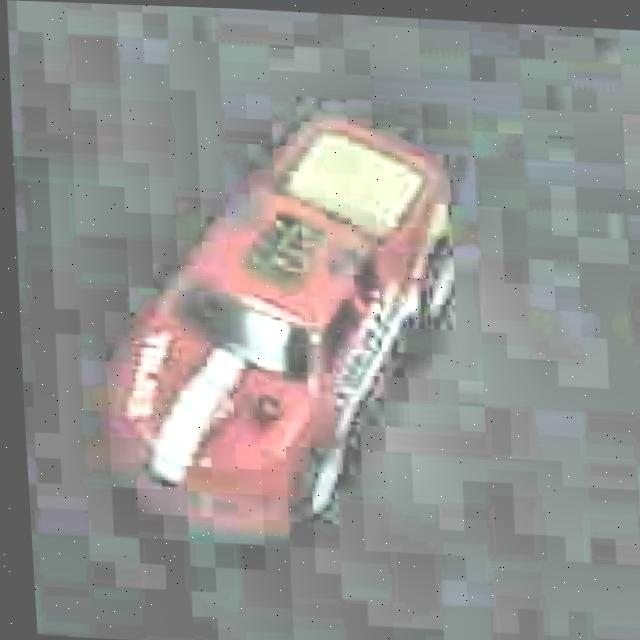car: (79, 96, 482, 560)
